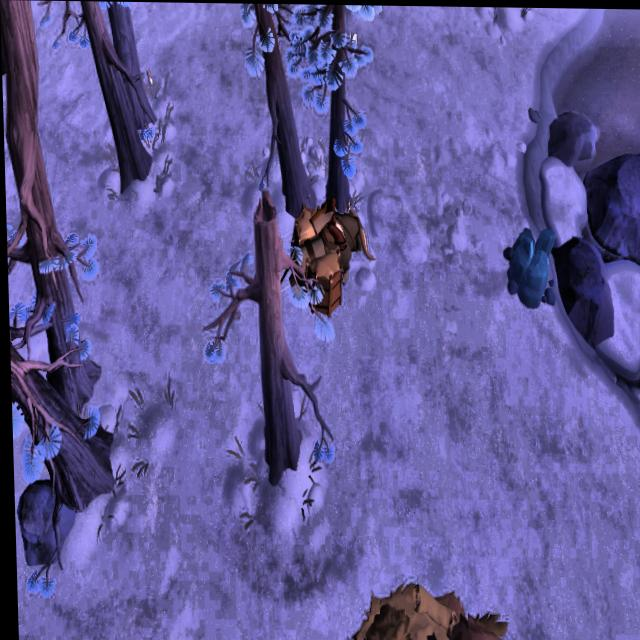rock_t4: (500, 224, 556, 308)
